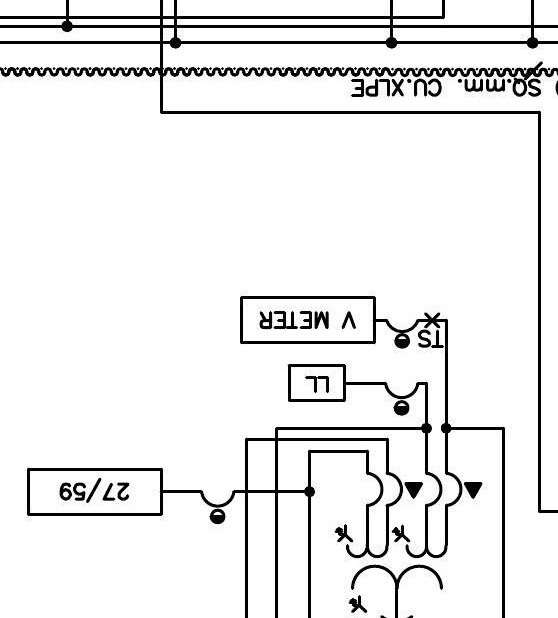LL: (287, 363, 347, 403)
v_m_digital: (239, 295, 377, 345)
